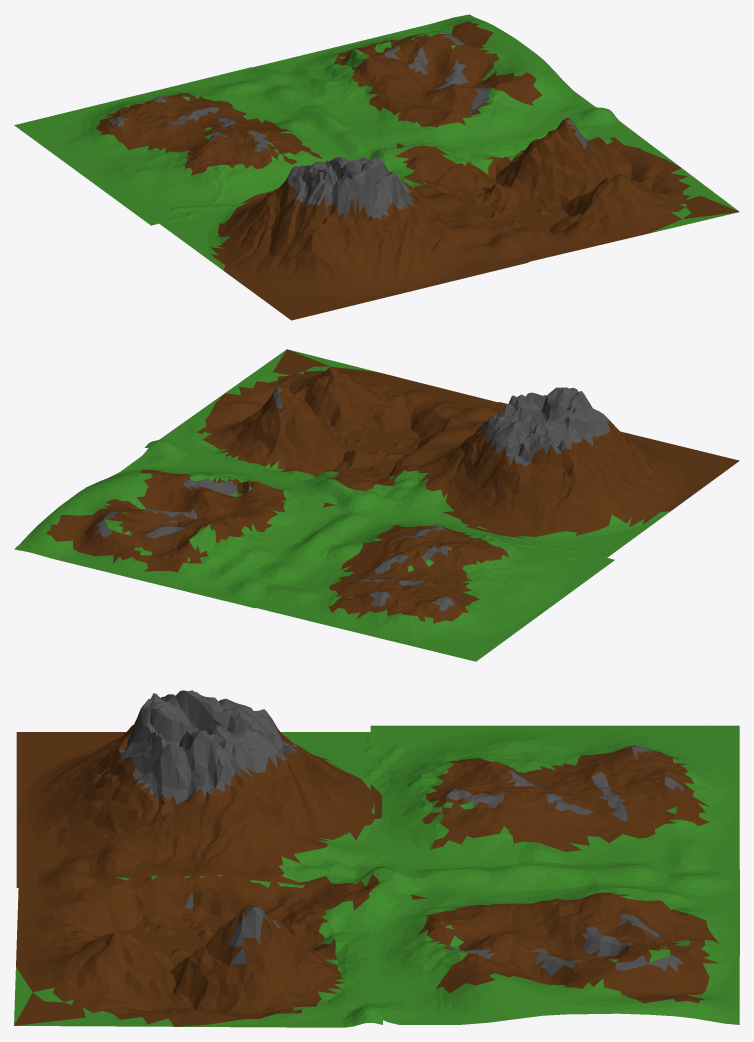
The model's file is newlake2.fbx.
3 renders of one model, top to bottom at view 1: azimuth 30°, elevation 25°; view 2: azimuth 150°, elevation 25°; view 3: azimuth 270°, elevation 25°, orthographic. The views are drawn at different scales.
Visible parts, largest first — view 1: Landscape.001; view 2: Landscape.001; view 3: Landscape.001.
Part boxes in pixels (x1=…): Landscape.001: x1=14, y1=14, x2=739, y2=320; Landscape.001: x1=14, y1=349, x2=739, y2=661; Landscape.001: x1=14, y1=690, x2=739, y2=1027.
Bounding box in the file's own units: 387 × 74.88 × 393.
